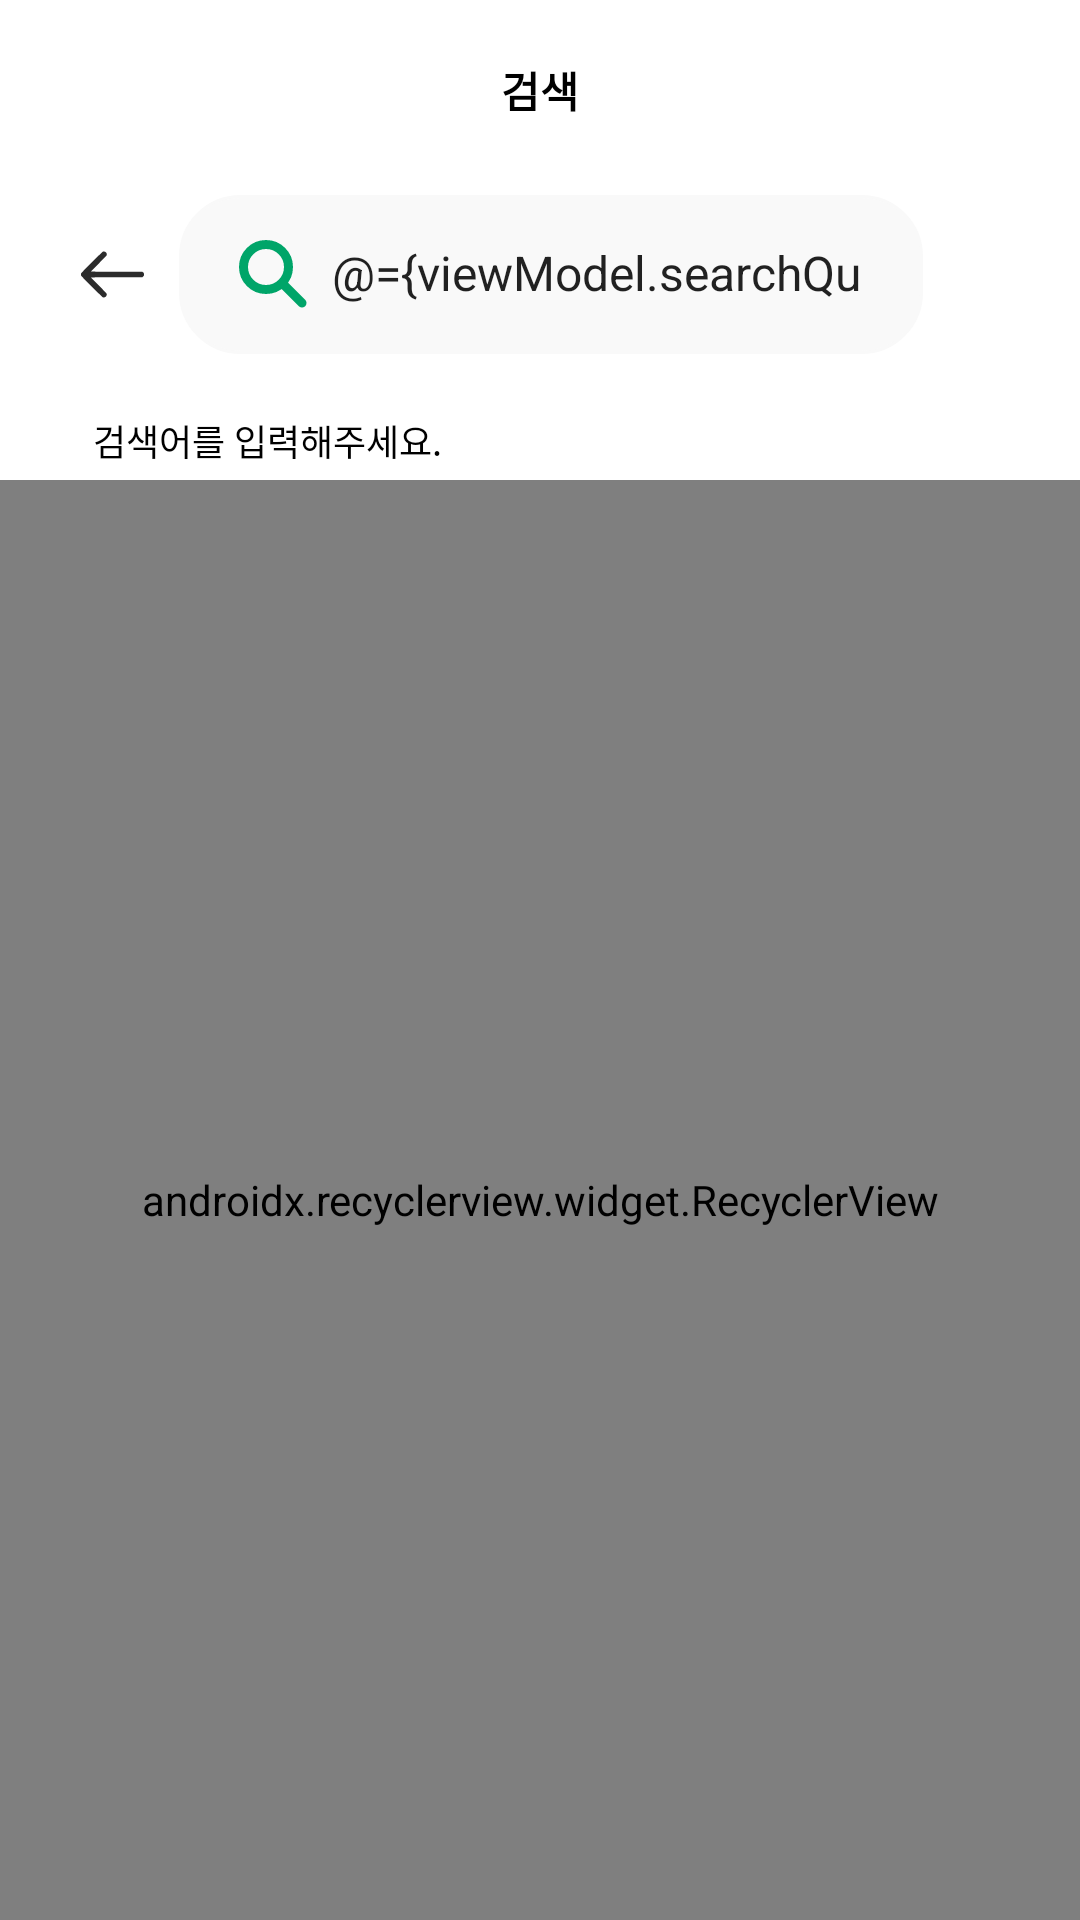

Screen size 1080x1920. Icon name, then its box in pixels as (x1=x1, y1=y1, x2=x2, y2=y2):
back: (x1=81, y1=251, x2=144, y2=298)
